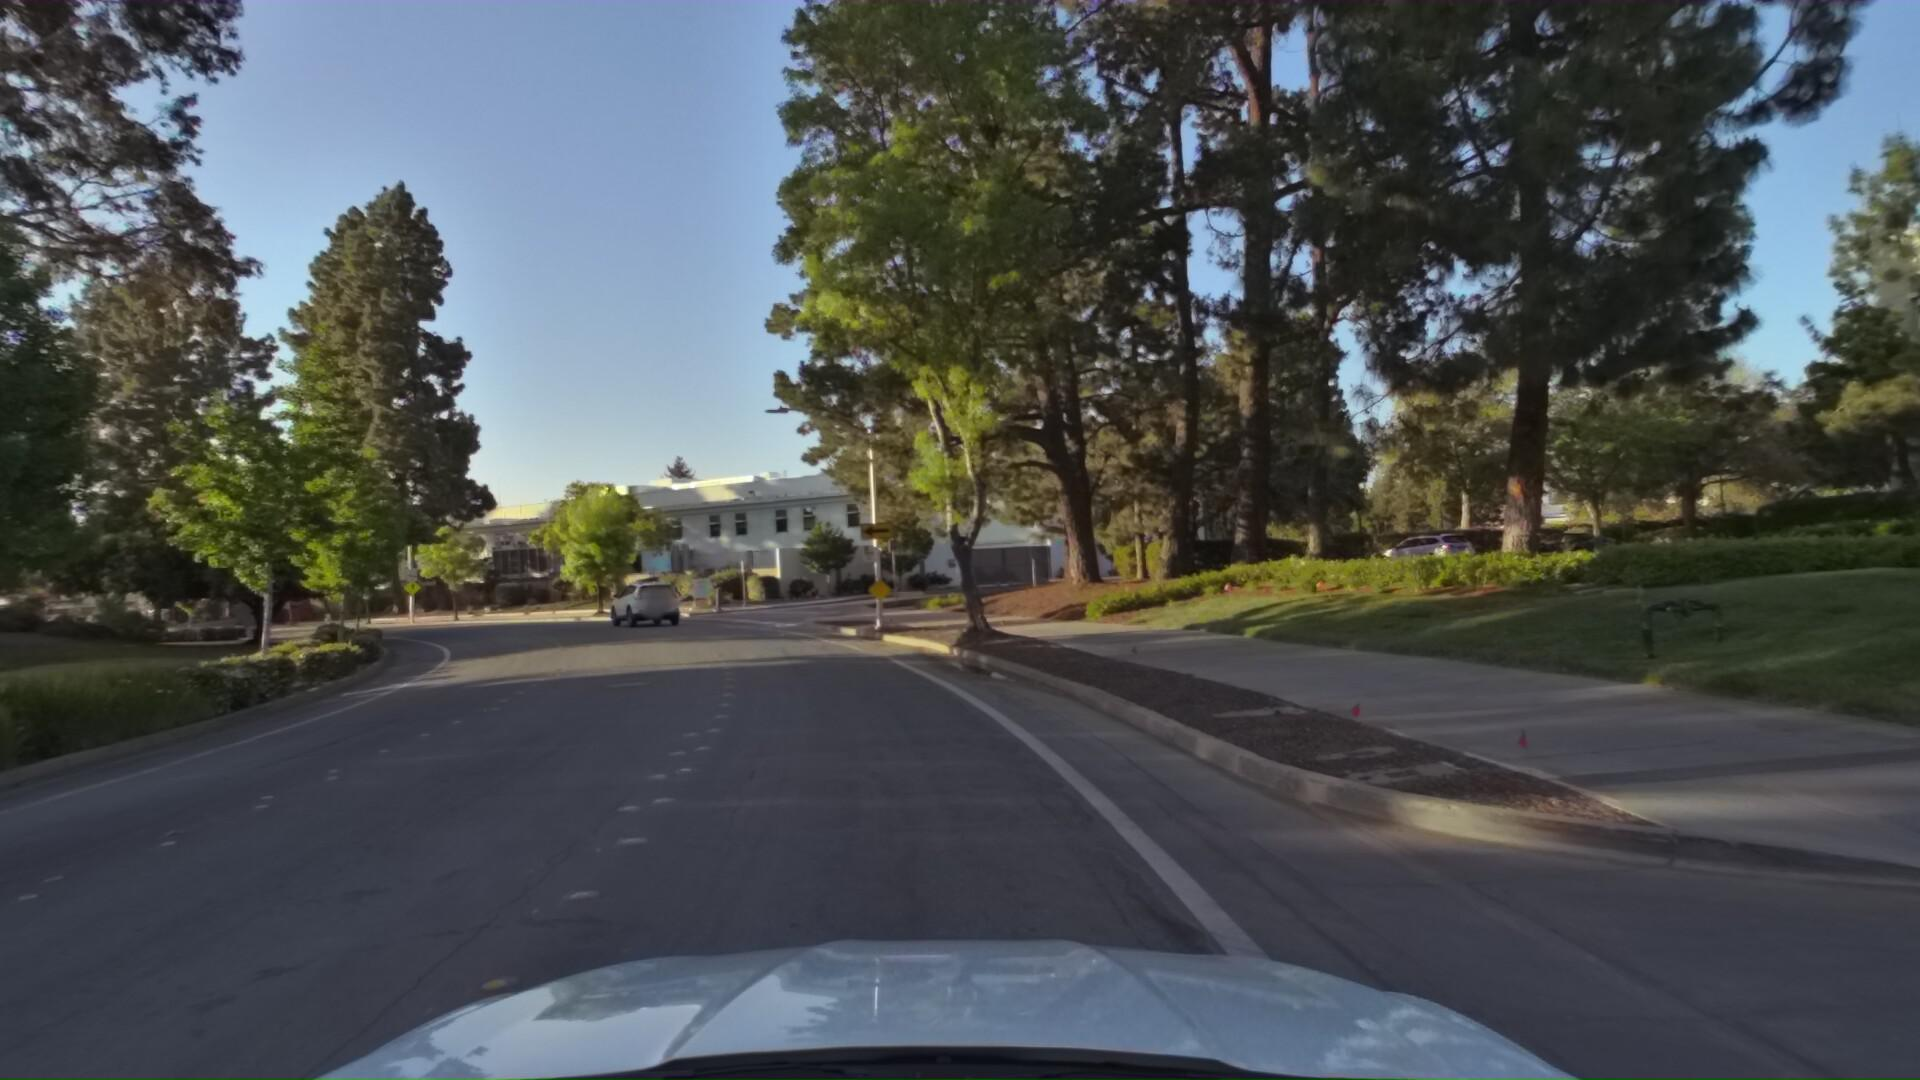car: (599, 576, 684, 629)
